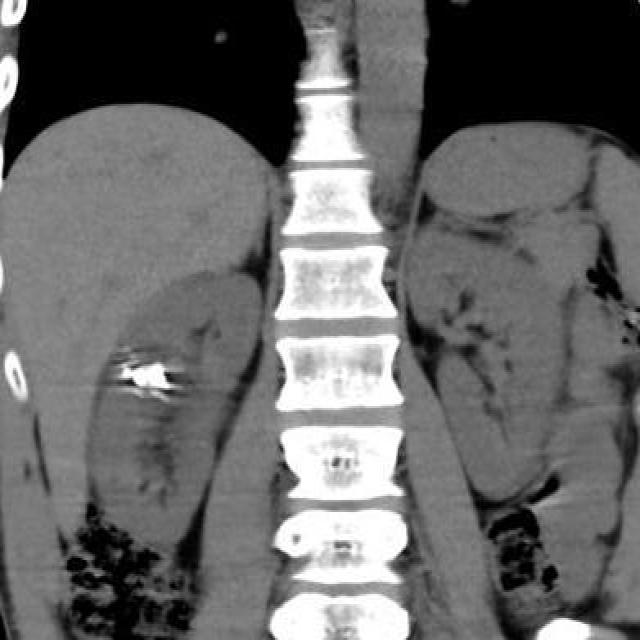Tas_Var: (145, 362, 177, 390), (133, 365, 149, 389), (120, 362, 132, 384)
